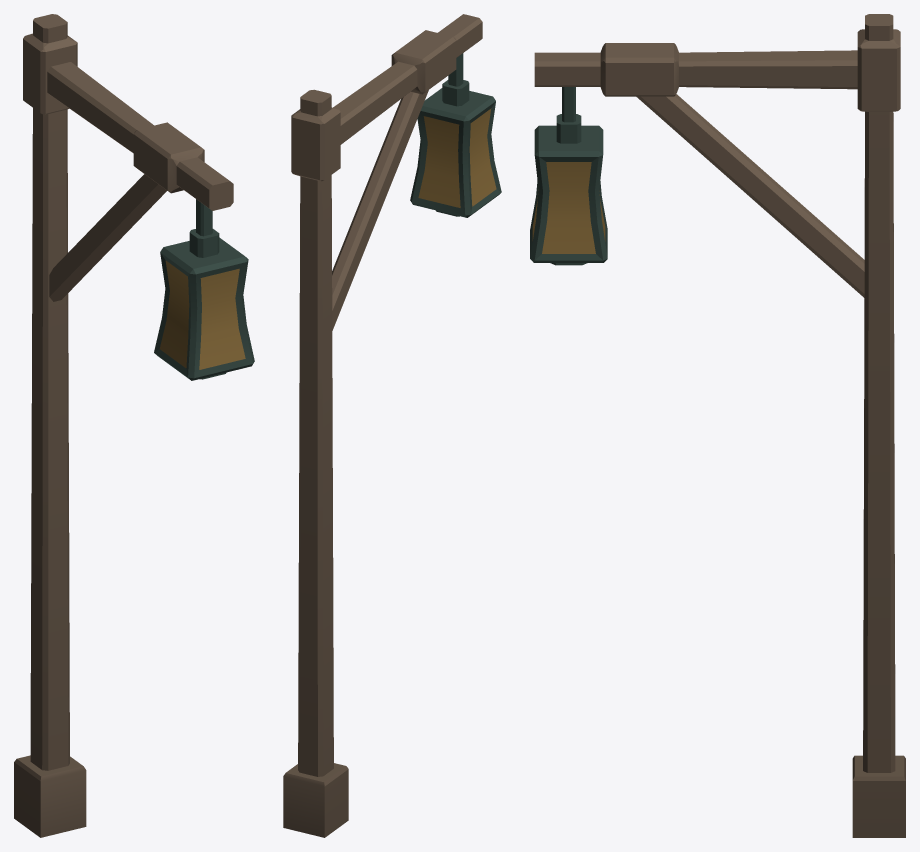
File: farm_lantern.glb
3 views of the same model, side by side, from view 1: azimuth 30°, elevation 25°; view 2: azimuth 150°, elevation 25°; view 3: azimuth 270°, elevation 25° (orthographic). The views are drawn at different scales.
Parts seen in each view (by area): view 1: farm_lantern; view 2: farm_lantern; view 3: farm_lantern.
Part boxes in pixels (x1,y1,x2,y2): farm_lantern: [14, 14, 254, 837]; farm_lantern: [283, 14, 501, 837]; farm_lantern: [530, 14, 905, 837].
Size of the model in its own units: 0.2619 by 3 by 1.27.
Materials: 1 (1 with a texture image).
